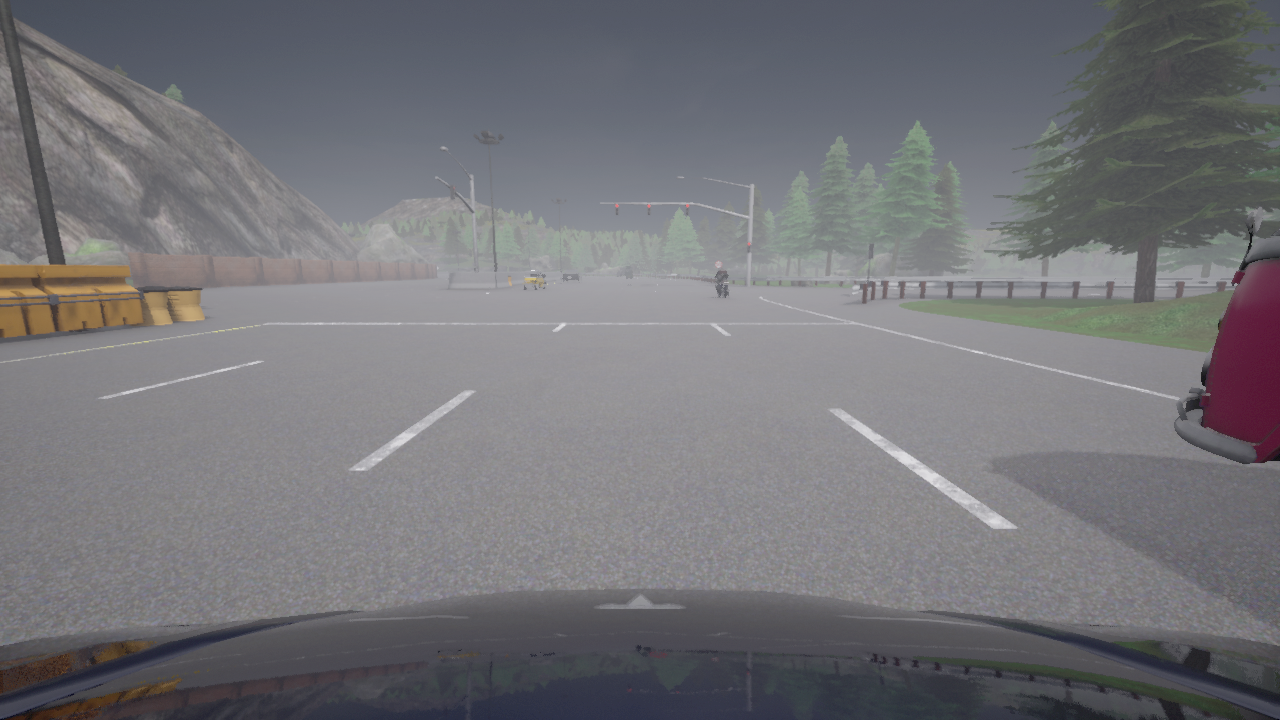cyclist: (0, 588, 1279, 719), (1173, 203, 1279, 464), (711, 272, 730, 298), (523, 269, 545, 290), (562, 267, 583, 282), (616, 267, 632, 277)
